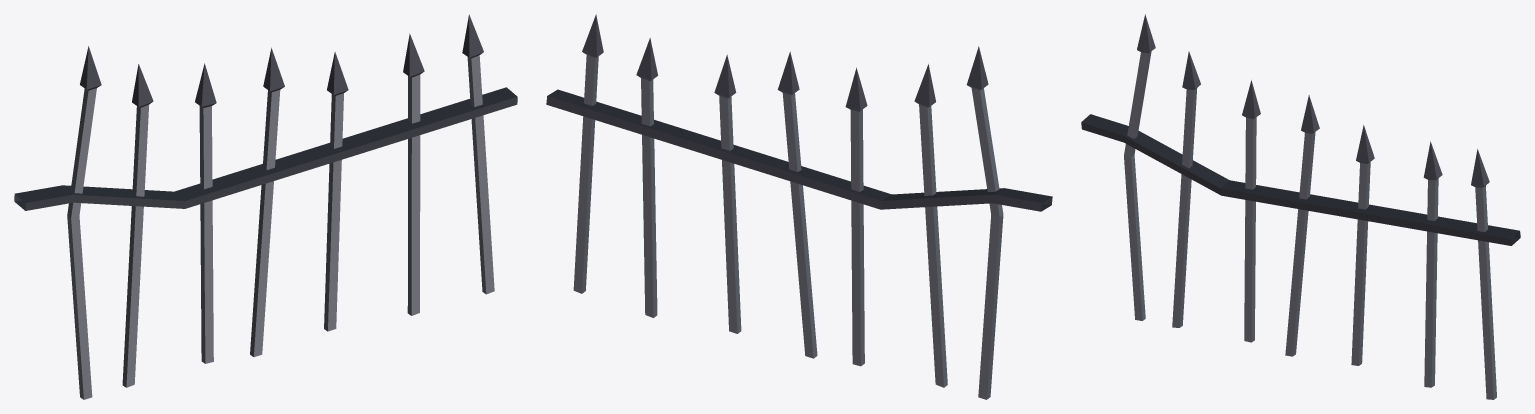
File: HWN20_IronfFence_03.glb
The picture shows the model from 3 angles, left to right: view 1: azimuth 30°, elevation 25°; view 2: azimuth 150°, elevation 25°; view 3: azimuth 330°, elevation 25°; orthographic projection. The views are drawn at different scales.
Visible parts, largest first — view 1: HWN20_IronfFence_03; view 2: HWN20_IronfFence_03; view 3: HWN20_IronfFence_03.
Part boxes in pixels (left/top/right/bottom): HWN20_IronfFence_03: left=14, top=14, right=517, bottom=399; HWN20_IronfFence_03: left=546, top=14, right=1052, bottom=399; HWN20_IronfFence_03: left=1081, top=14, right=1520, bottom=399.
Size of what is drawn, in the model's own units: 4.04 by 2.74 by 0.1608.
1 material, 1 textured.
